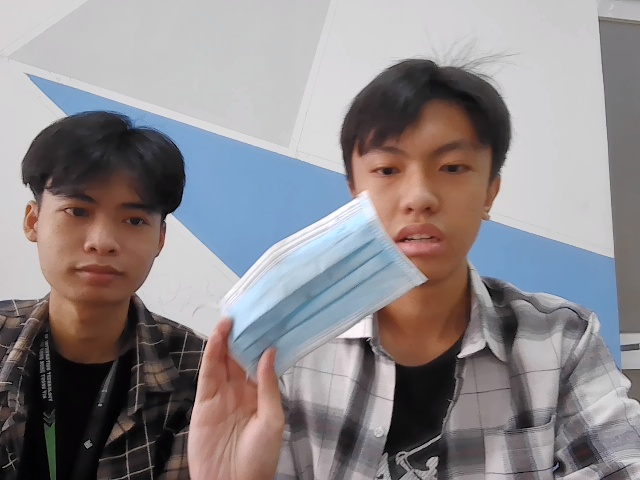human: (345, 47, 503, 283), (24, 104, 183, 306)
mask: (211, 192, 428, 369)
